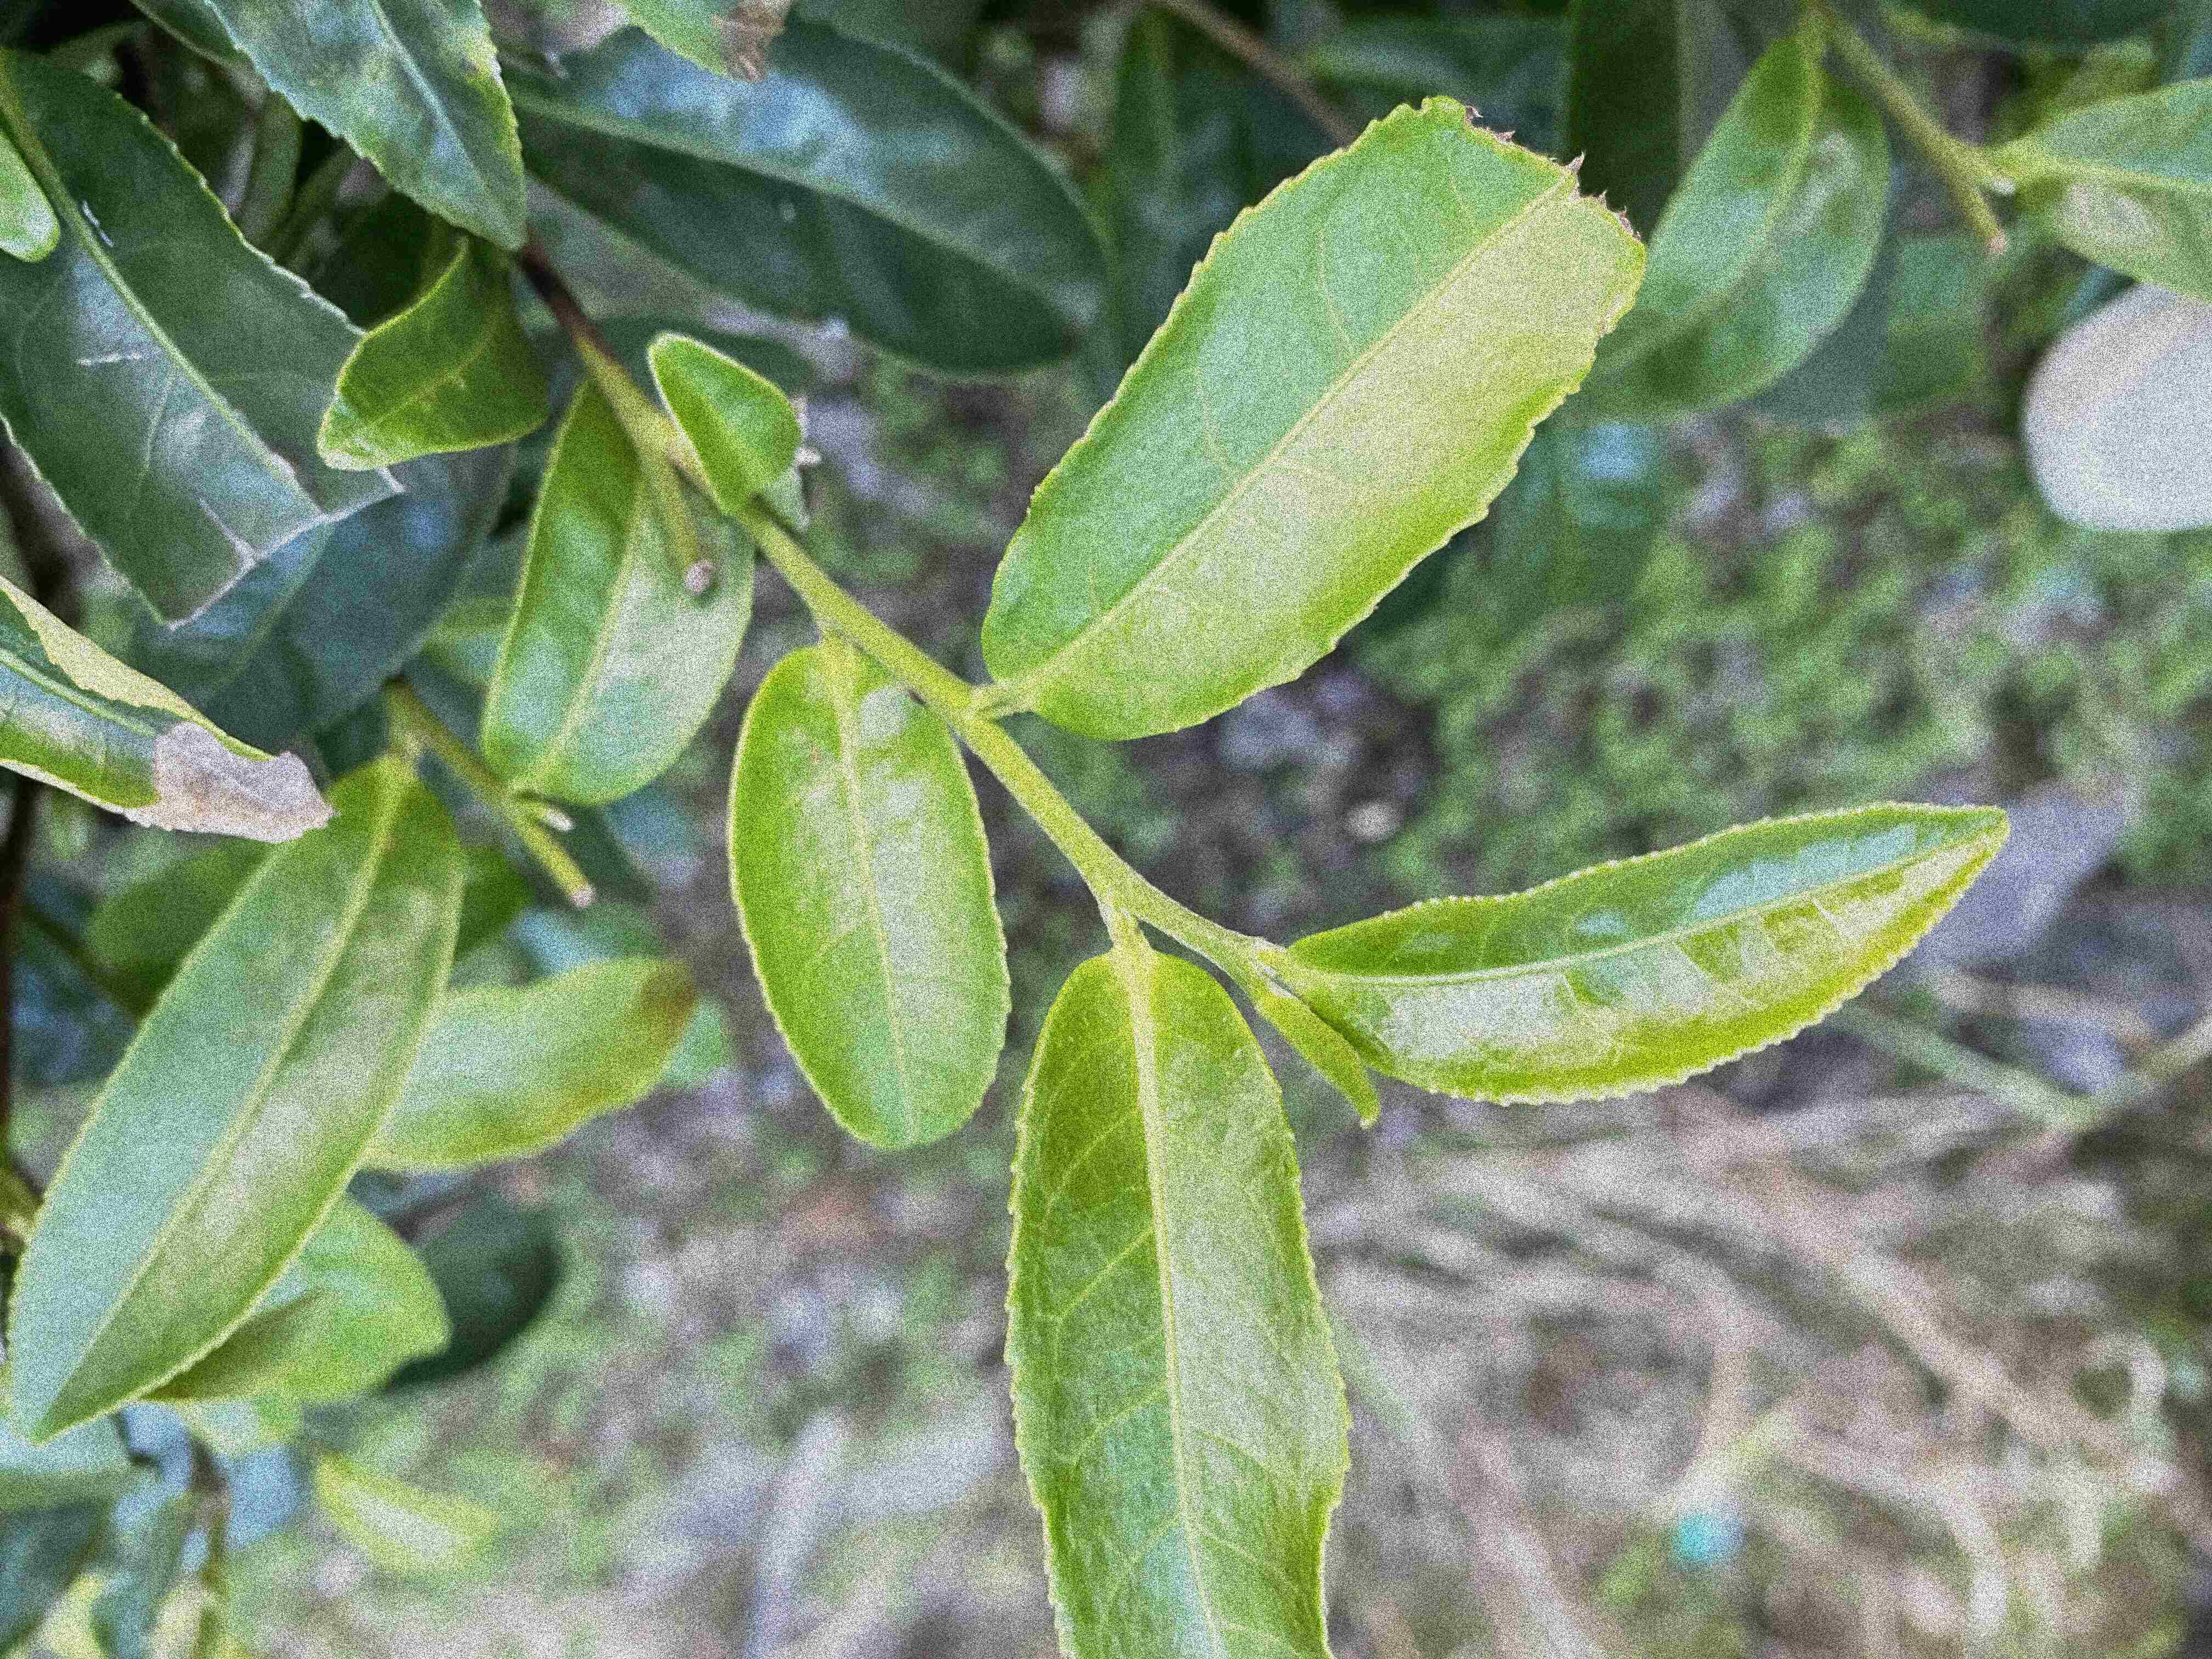chihuo_high: (3, 45, 406, 631)
chihuo_low: (979, 91, 1648, 744)
healthy: (3, 760, 470, 1455), (1001, 939, 1357, 1657), (1287, 795, 2015, 1112), (723, 647, 1014, 1152)
tanju_high: (3, 575, 331, 847)
